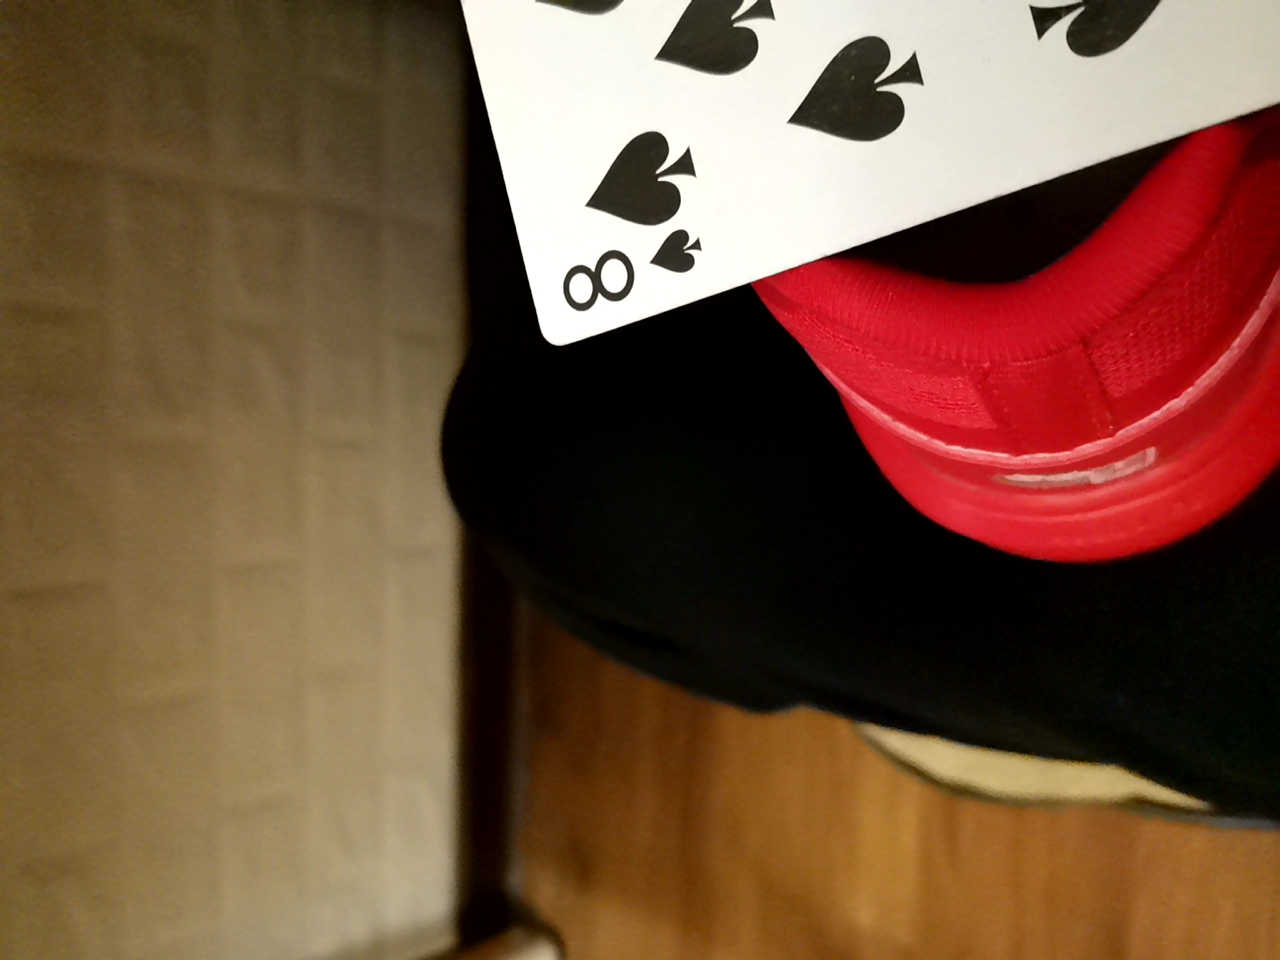ht 8: (414, 3, 1280, 363)
